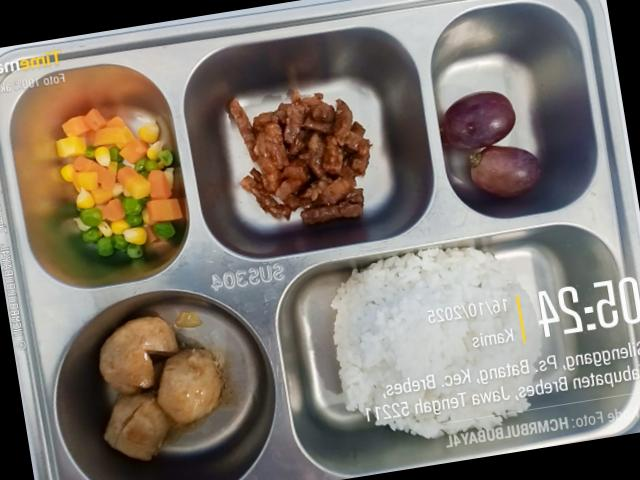bakso: (99, 317, 221, 460)
buah: (443, 91, 541, 197)
nasi: (331, 247, 541, 438)
sayur: (56, 108, 182, 259)
tempe: (229, 92, 370, 224)
